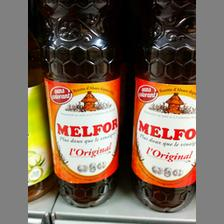Essig: (36, 0, 123, 208), (129, 0, 195, 214)
